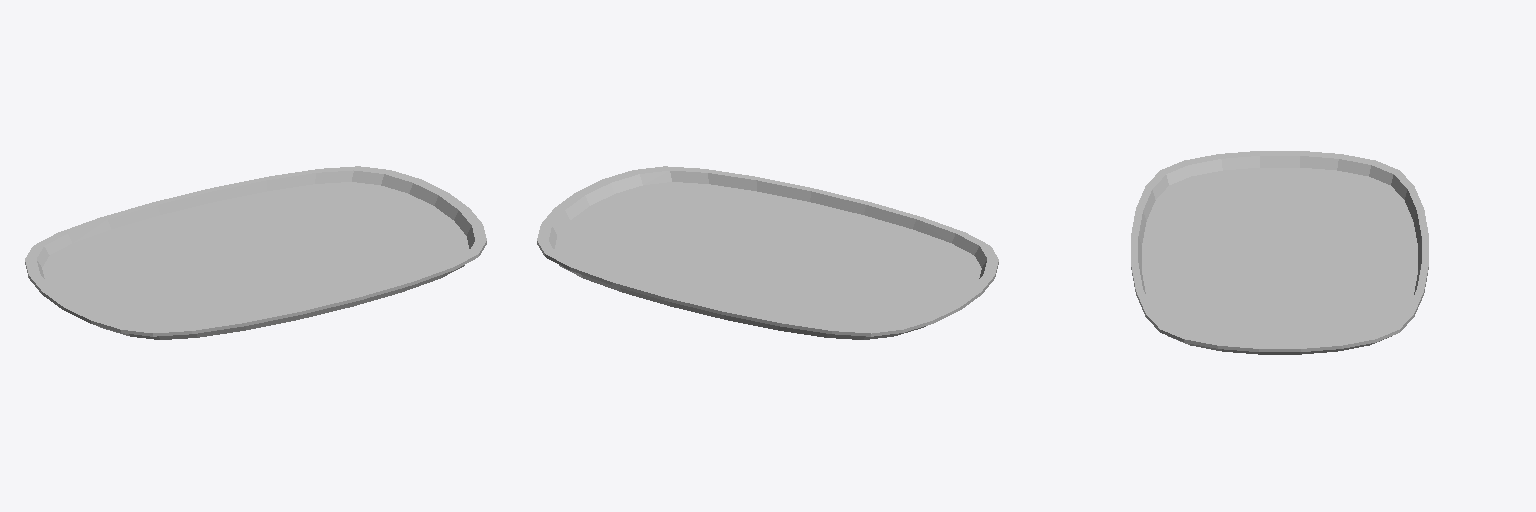
File: Tray.obj
The picture shows the model from 3 angles: view 1: azimuth 30°, elevation 25°; view 2: azimuth 150°, elevation 25°; view 3: azimuth 270°, elevation 25°; orthographic projection.
Visible parts, largest first — view 1: Rectangle001; view 2: Rectangle001; view 3: Rectangle001.
Part boxes in pixels (x1,y1,x2,y2): Rectangle001: (25,166,486,339); Rectangle001: (537,166,998,339); Rectangle001: (1131,151,1428,354).
Size of the model in its own units: 0.5051 by 0.0145 by 0.3211.